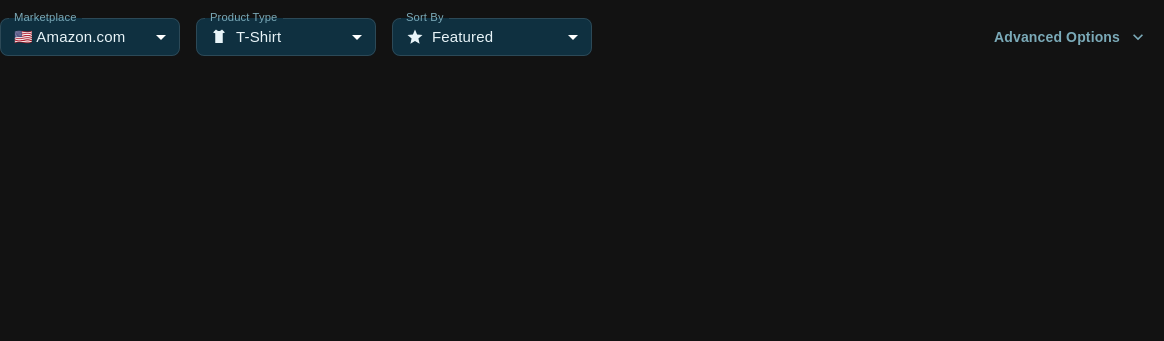
Test: ControlsRow › shows Live sort options in Live mode
This screenshot has width=1164, height=341.
Click the dropdown labelled "Featured".
click(450, 37)  # box [406,28,493,46]
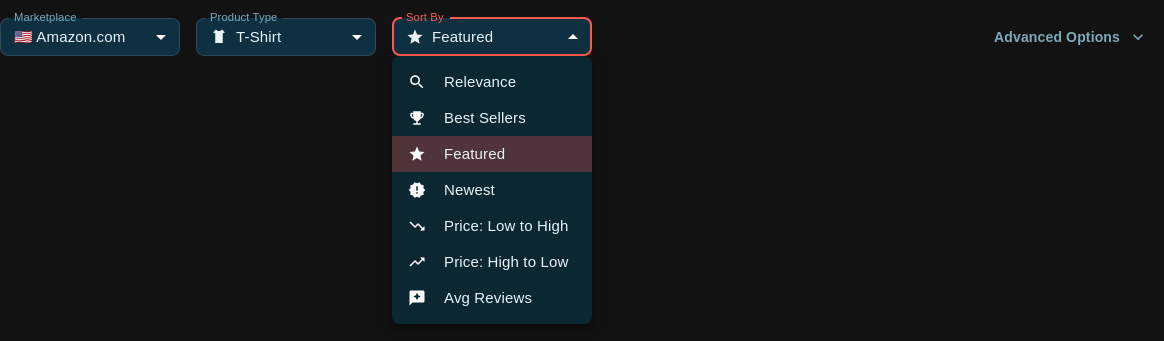
Now the text "Relevance" is shown, box [444,73,516,90]
Now the text "Best Sellers" is shown, box [444,109,526,126]
Now the text "Featured" is shown, box [444,145,505,162]
